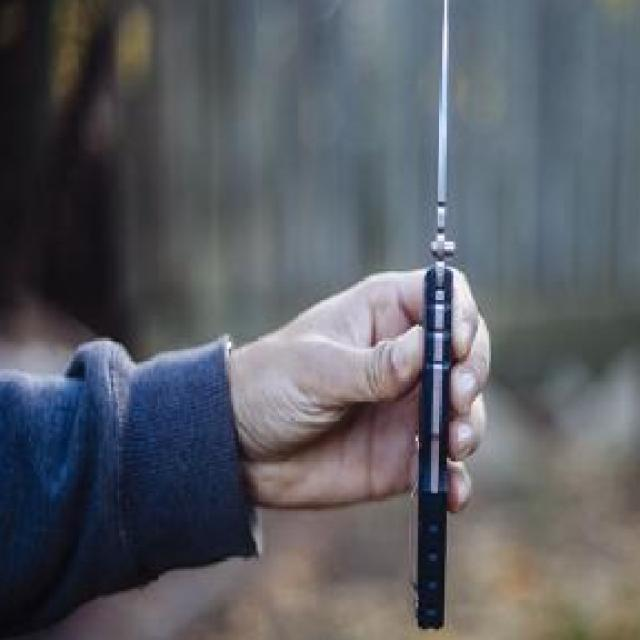knife: (407, 0, 501, 633)
